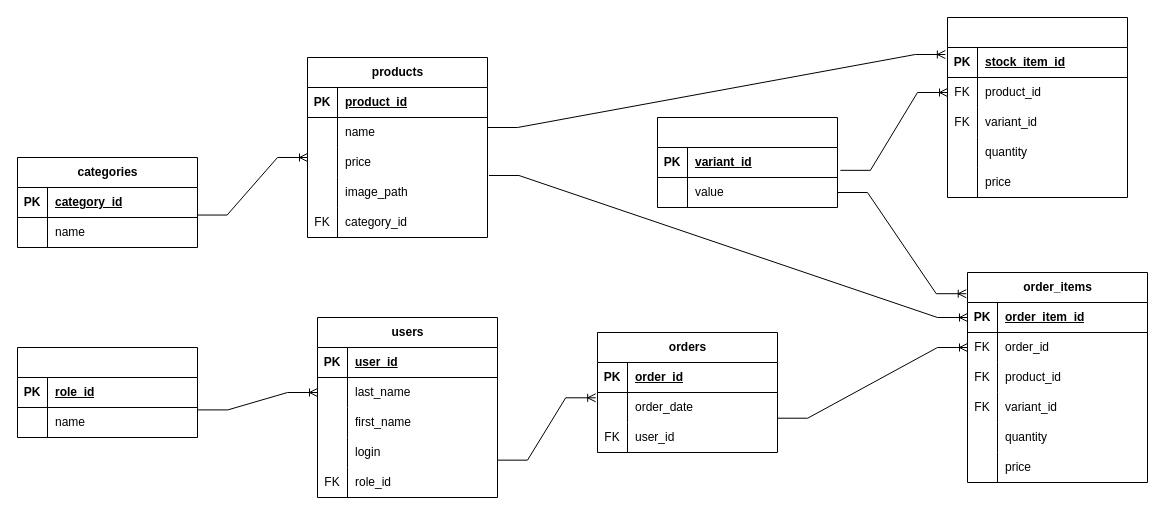
The diagram is 1165 pixels wide and 515 high, and some of its shapes have lost their labels. The shapes that lost their labels are listed below. From the top down, each one's box as (x1, y1, x2, y2) in pixels, then its label:
(946, 16, 1128, 198): stock_items
(656, 116, 838, 208): variants
(16, 346, 198, 438): roles
